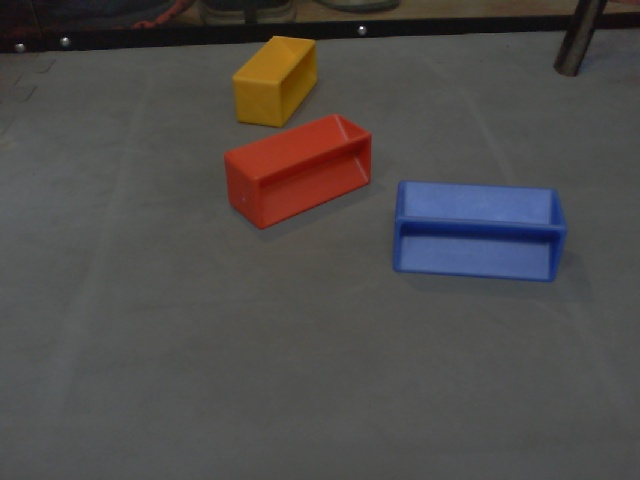BlueSample: (390, 180, 569, 286)
RedSample: (222, 111, 373, 231)
YellowSample: (231, 35, 317, 128)
